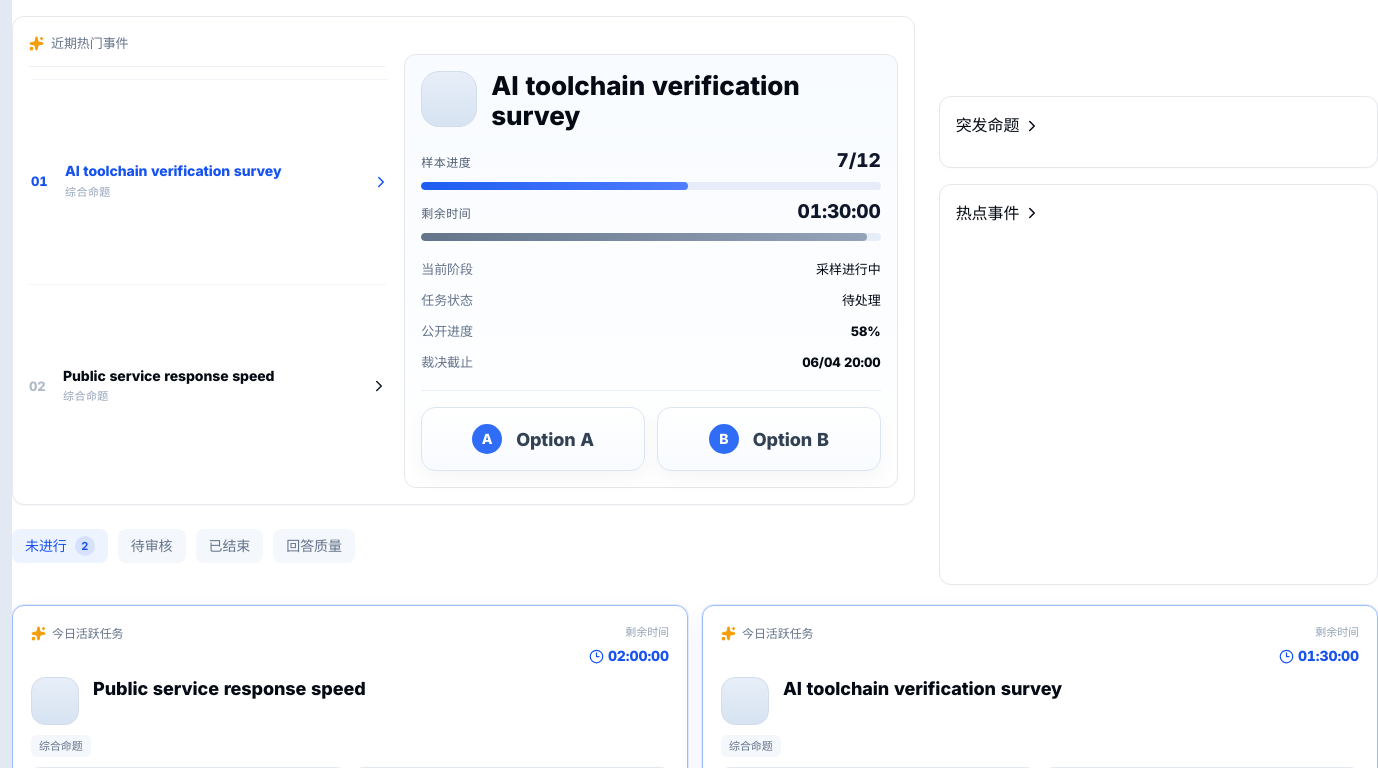
Scenario: AdjudicationPage lifecycle integration › shows hovered queue topic details in the preview panel
Check: the 1st heading "AI toolchain verification survey" is shown, box left=491, top=70, right=800, bottom=132
Hover over the link "02 Public service response speed 综合命题" at (208, 386), box left=29, top=284, right=386, bottom=488
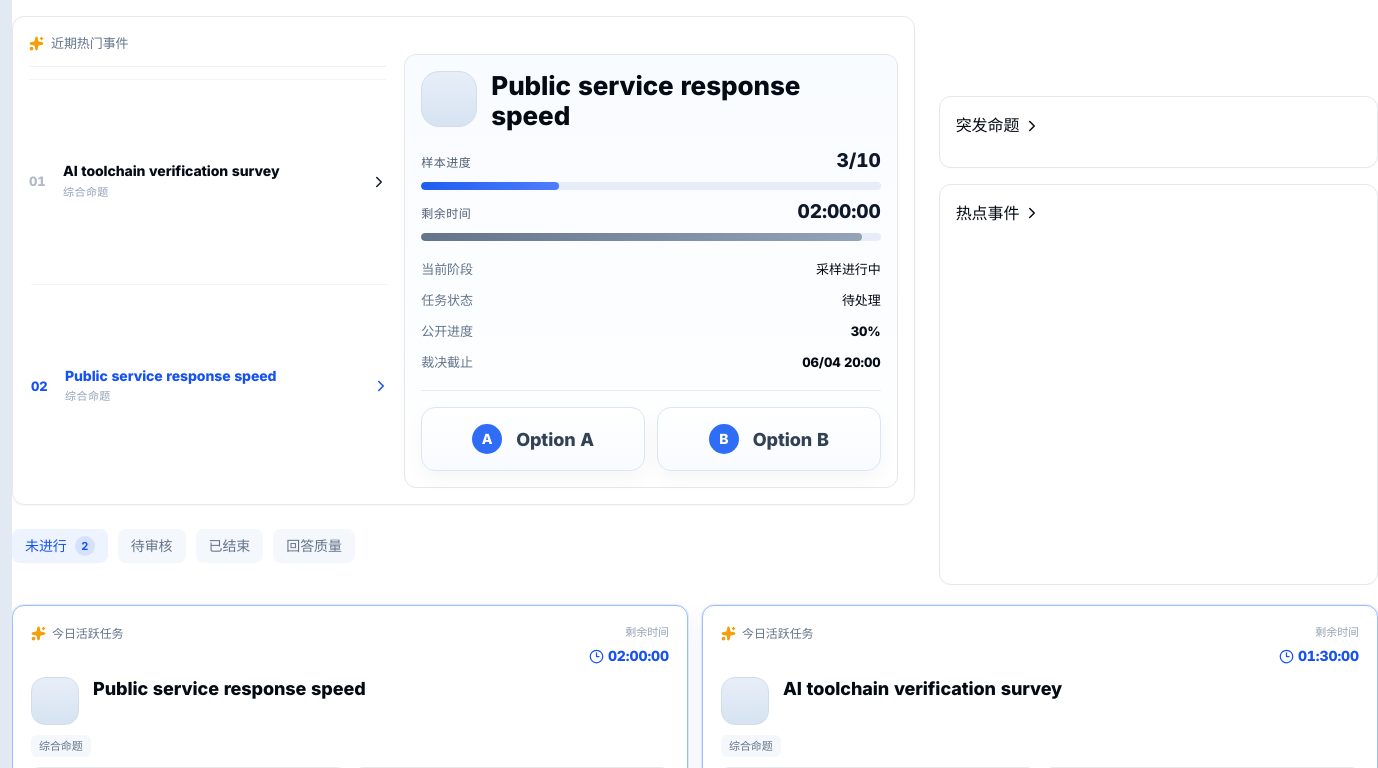
Check: the 1st heading "Public service response speed" is shown, box left=491, top=70, right=800, bottom=132
Check: the text "3/10" is shown, box left=837, top=151, right=881, bottom=172
